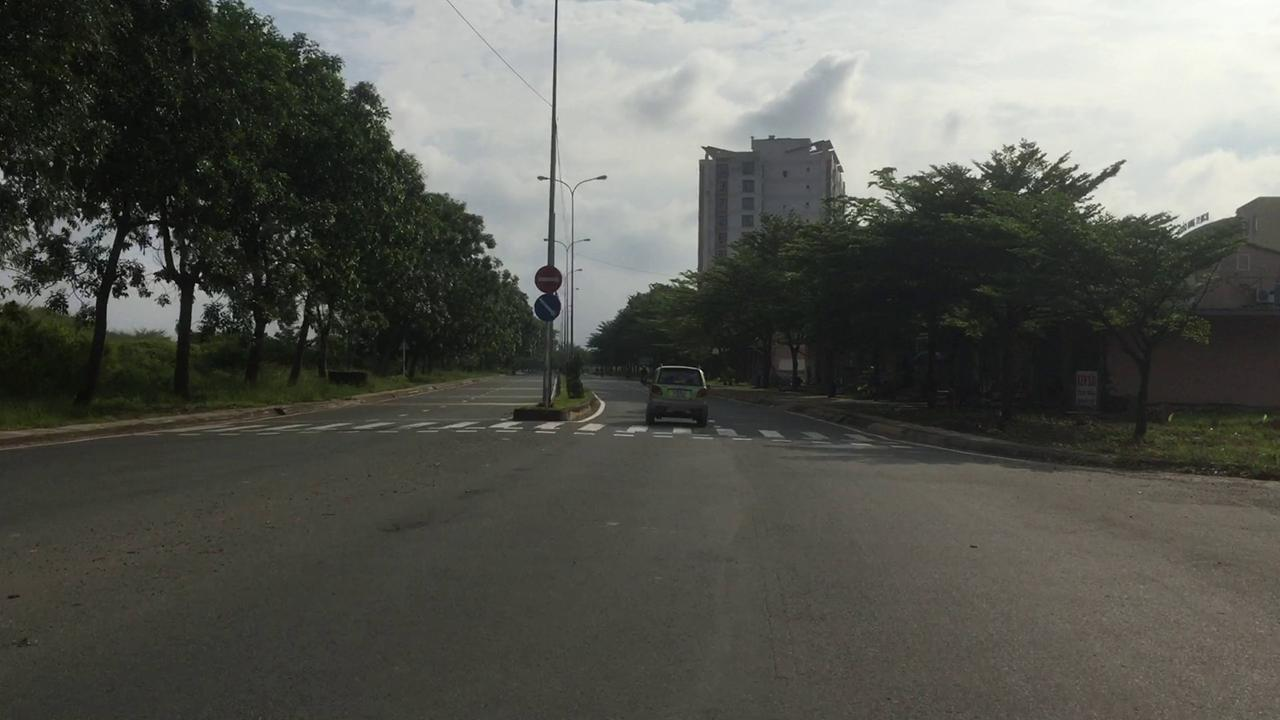DP.135: (534, 264, 564, 294)
P.130: (534, 293, 560, 322)
